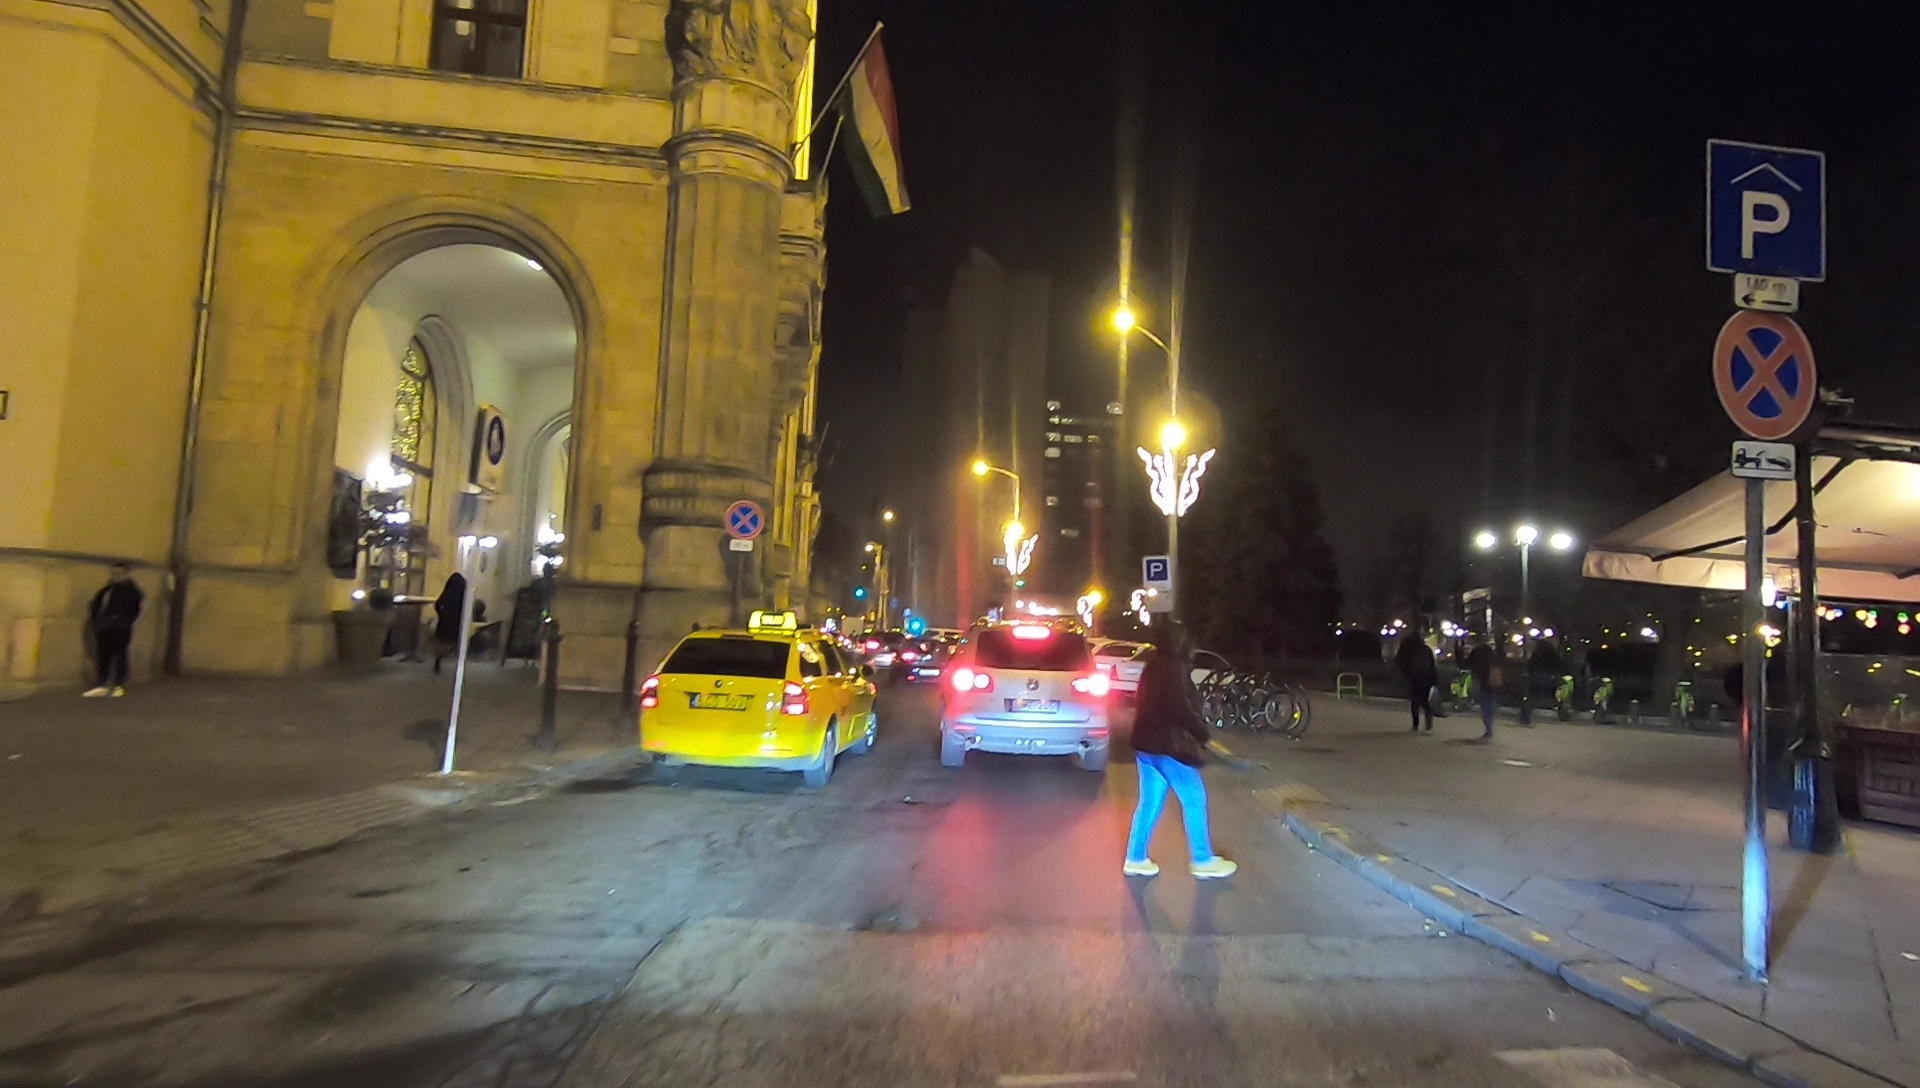person: (1125, 619, 1238, 878), (78, 567, 141, 706), (430, 574, 469, 671), (1402, 630, 1439, 730), (1465, 637, 1499, 739)
